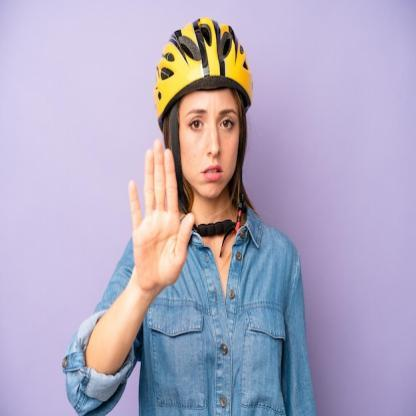stop: (128, 137, 196, 296)
